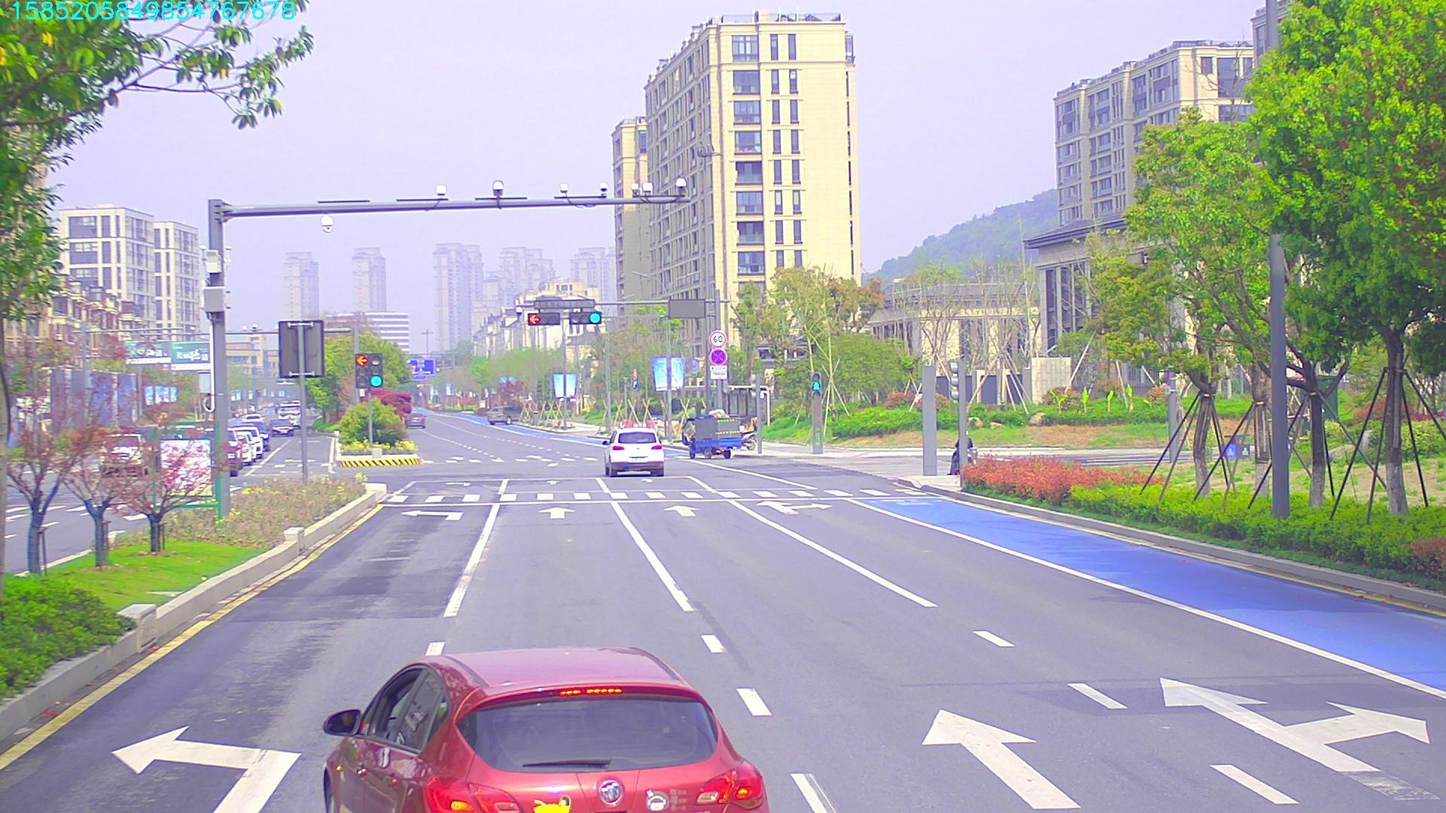green: (571, 311, 607, 326)
red: (526, 315, 554, 325)
